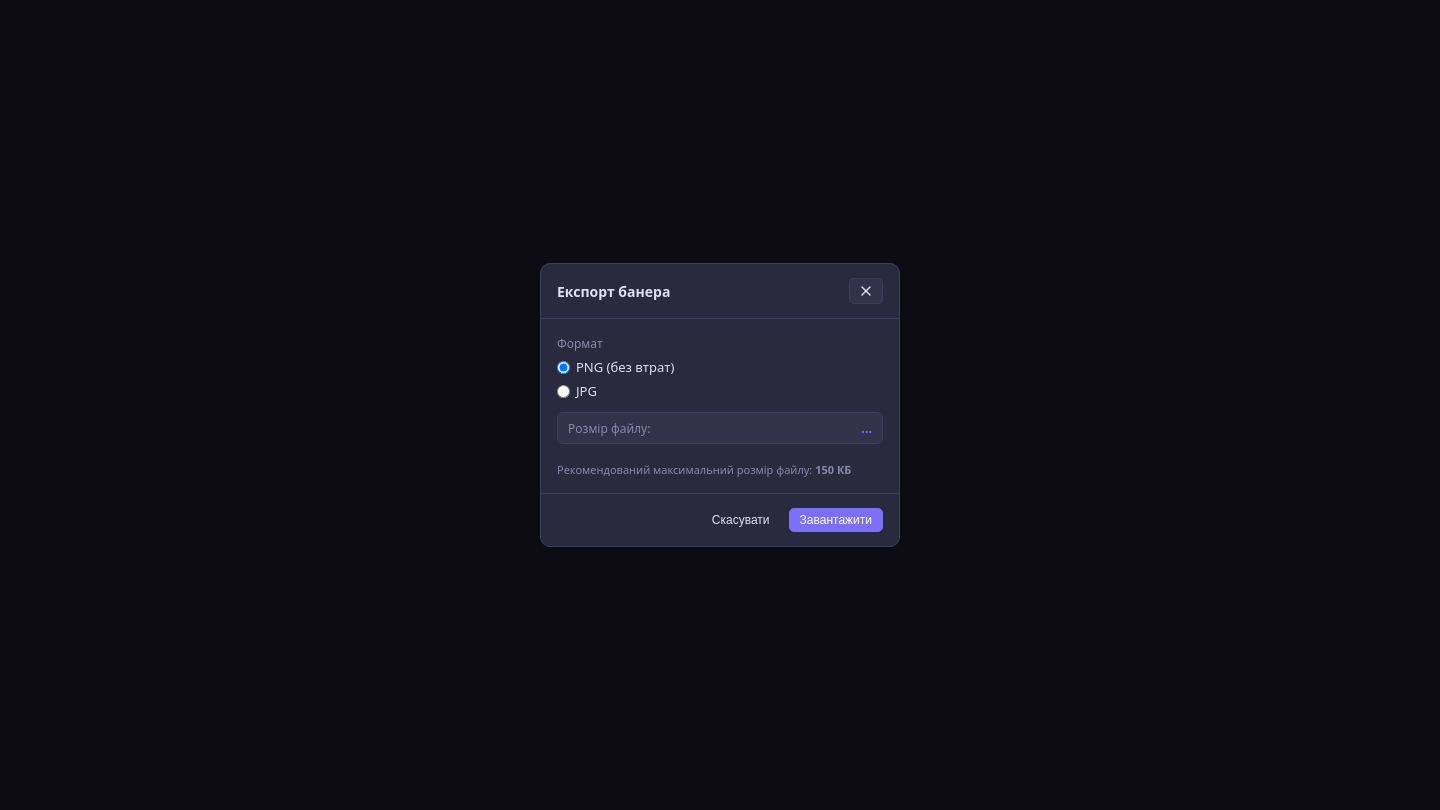
it: ExportModal › shows JPG quality slider only when JPG is selected
Expected: the text "Якість" is not shown
Step 1. Click the radio button labelled "JPG" → (564,391), box [557,384,570,398]
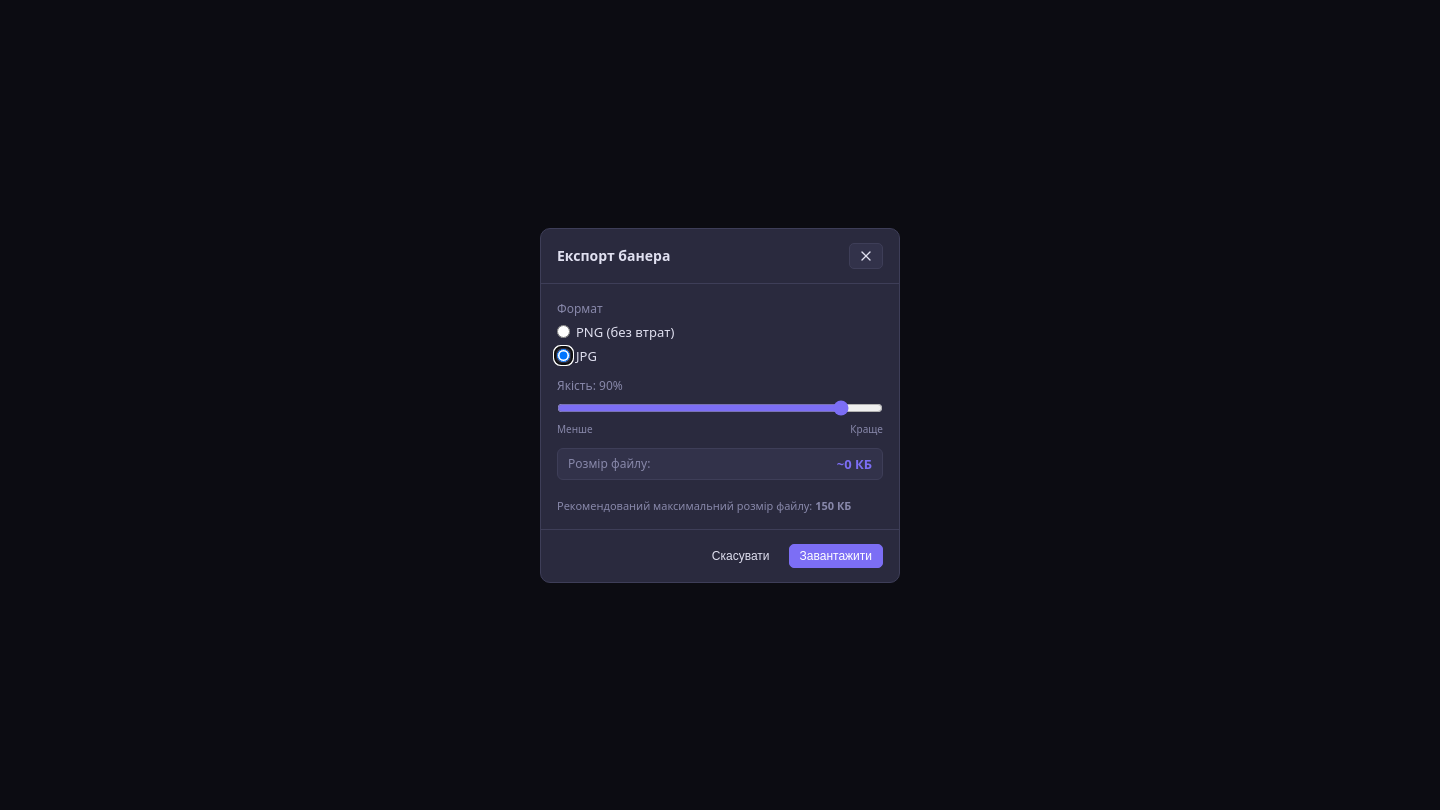
Expected: the text "Якість: 90%" is shown, [557,376,623,394]
